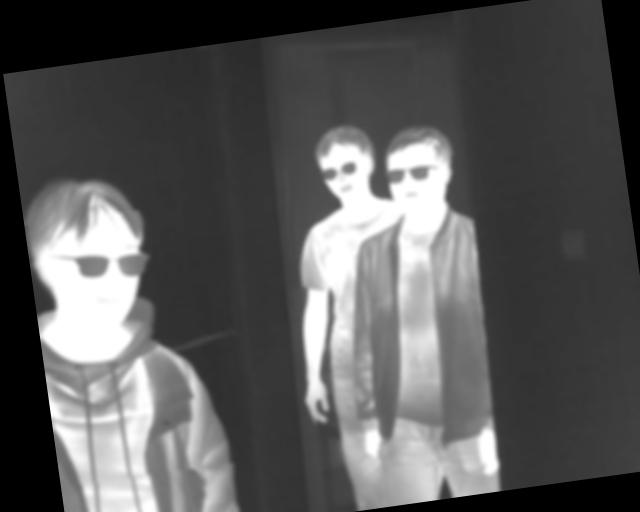face: (19, 168, 154, 336), (380, 121, 459, 220), (312, 120, 380, 207)
